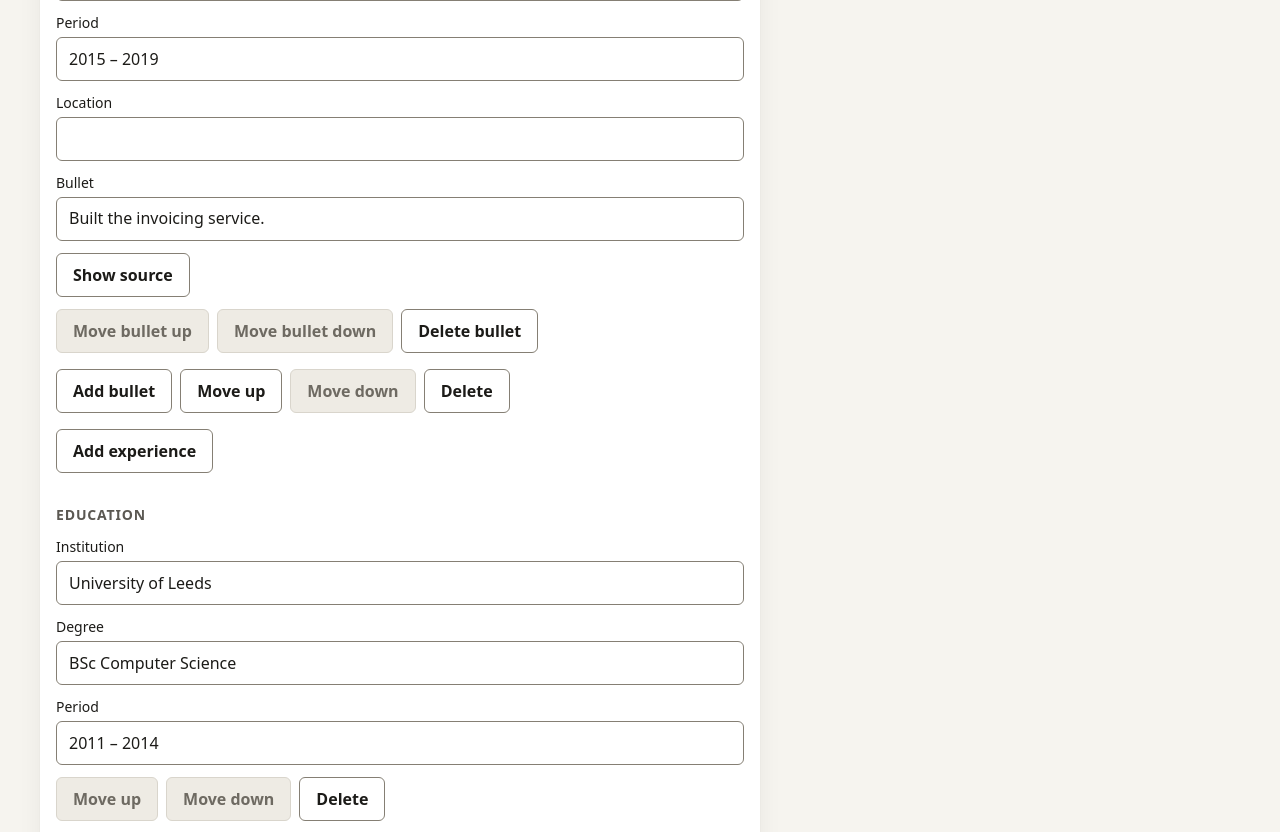
CV editor — 409 VERSION_CONFLICT (C-008, design: conflict_409) › a 409 on a structural change (delete) shows the same conflict message (error case)
(page scrolled)
Click the 1st button "Delete": (467,391) top-left (424, 369), bottom-right (510, 413)
(page scrolled)
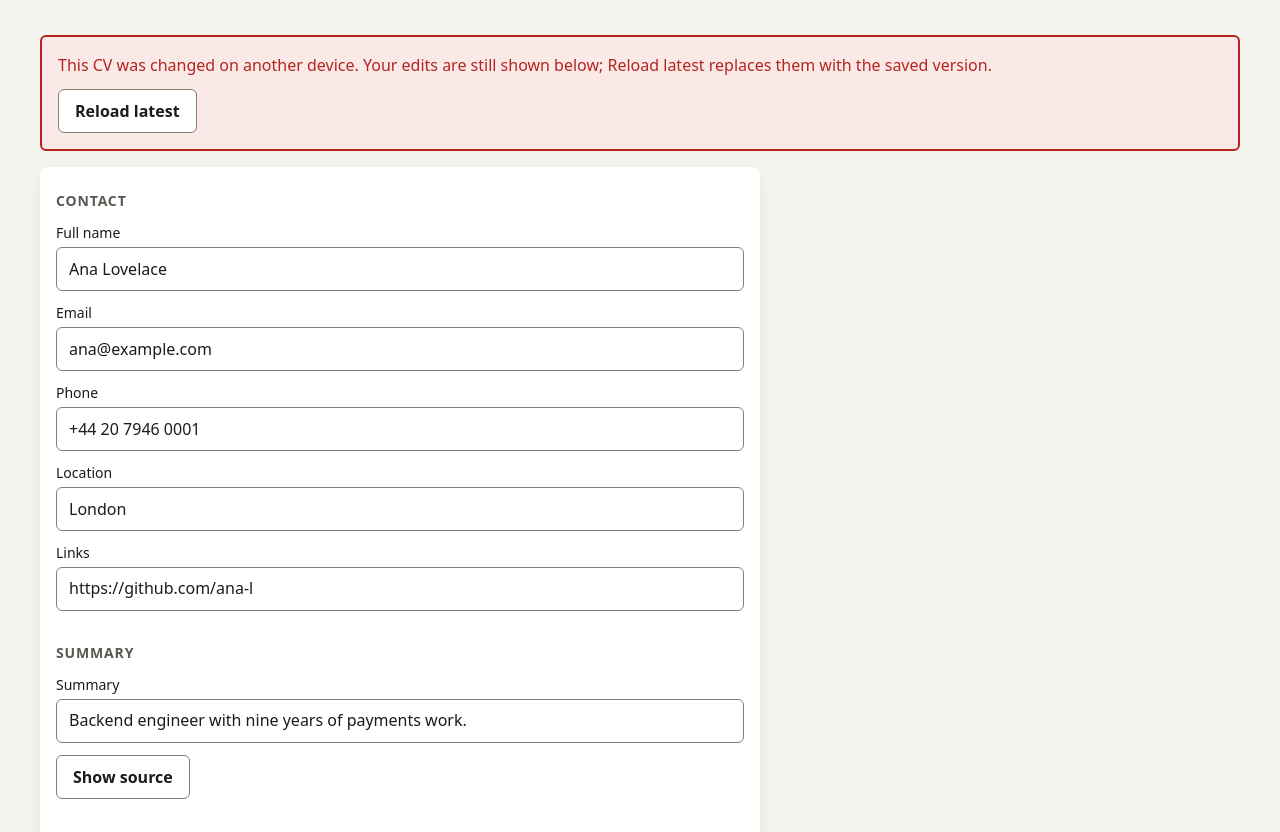
Expected: the 2nd message shows "This CV was changed on another device.", top-left (58, 54), bottom-right (992, 76)
